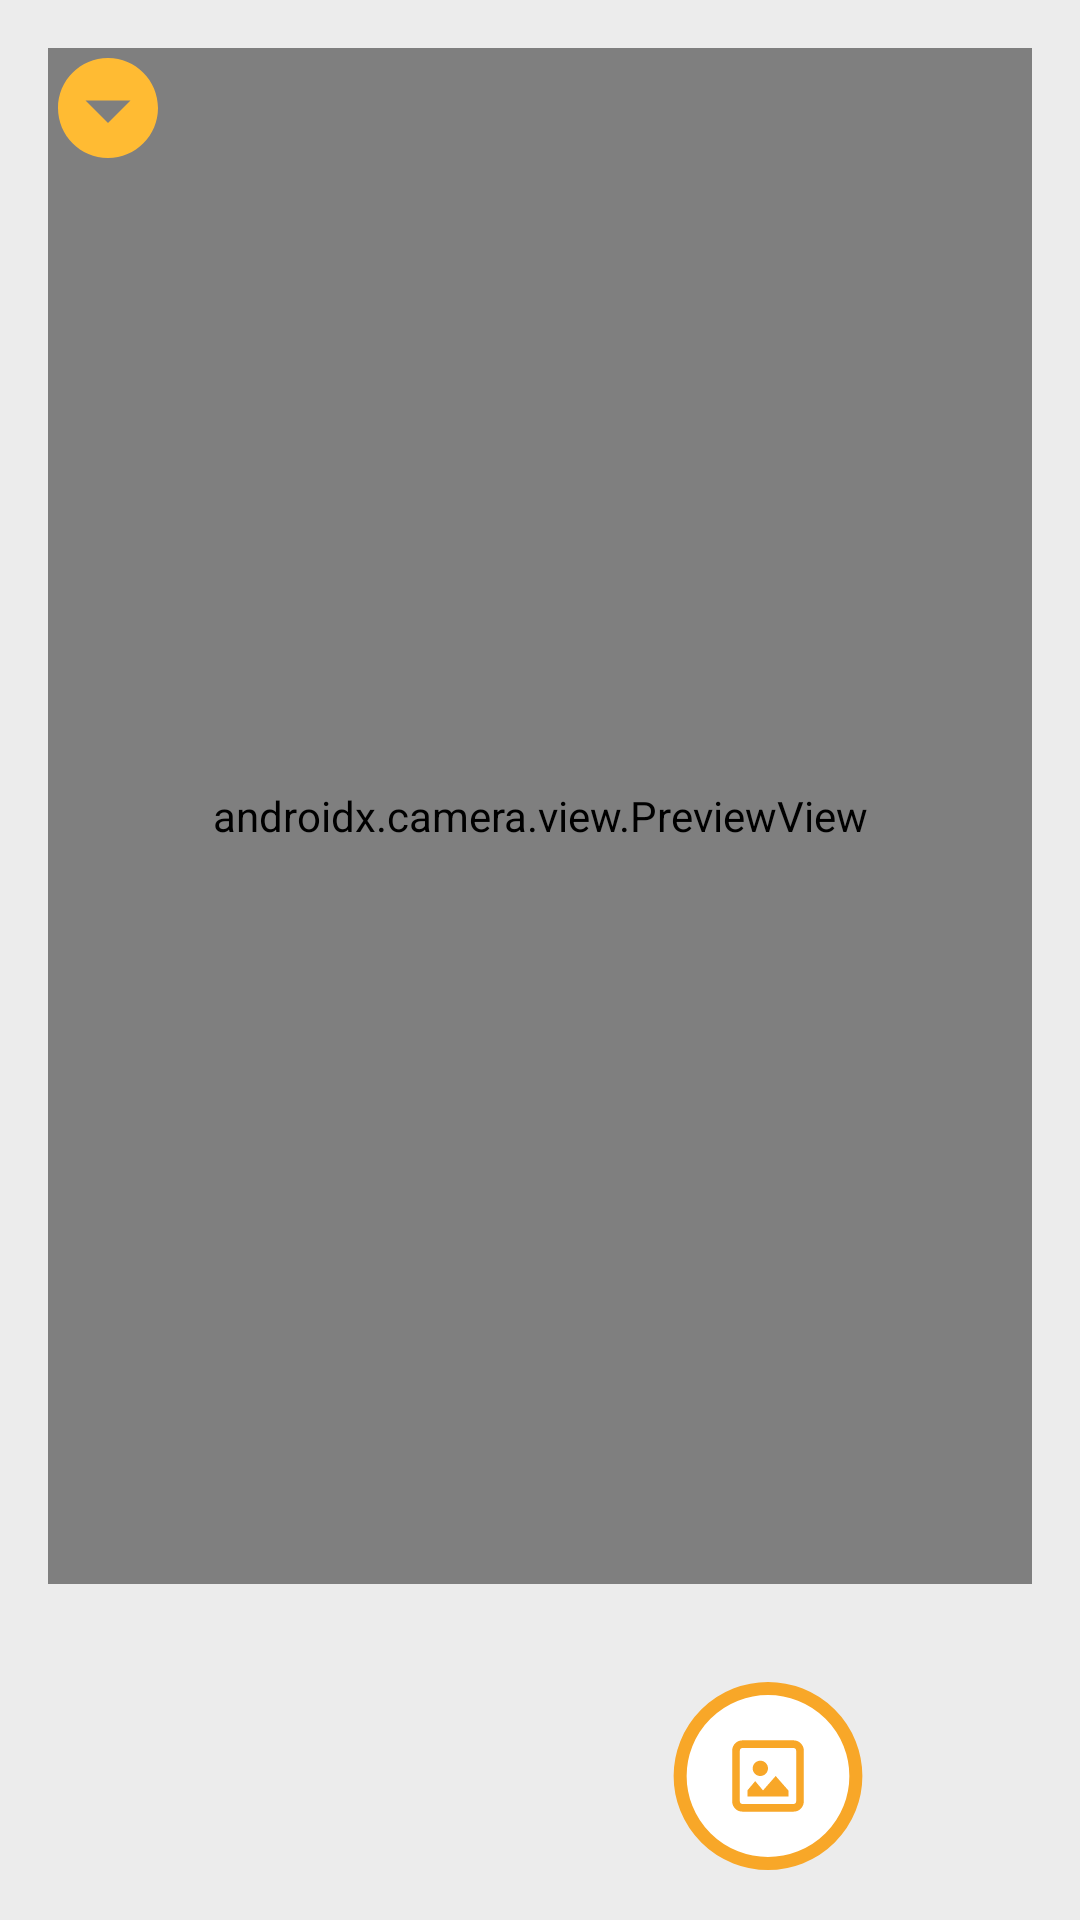

Named icons in this screenshot (1080w x 1920h) and their centers, (x,y):
Pick Image from Gallery: (768,1776)
